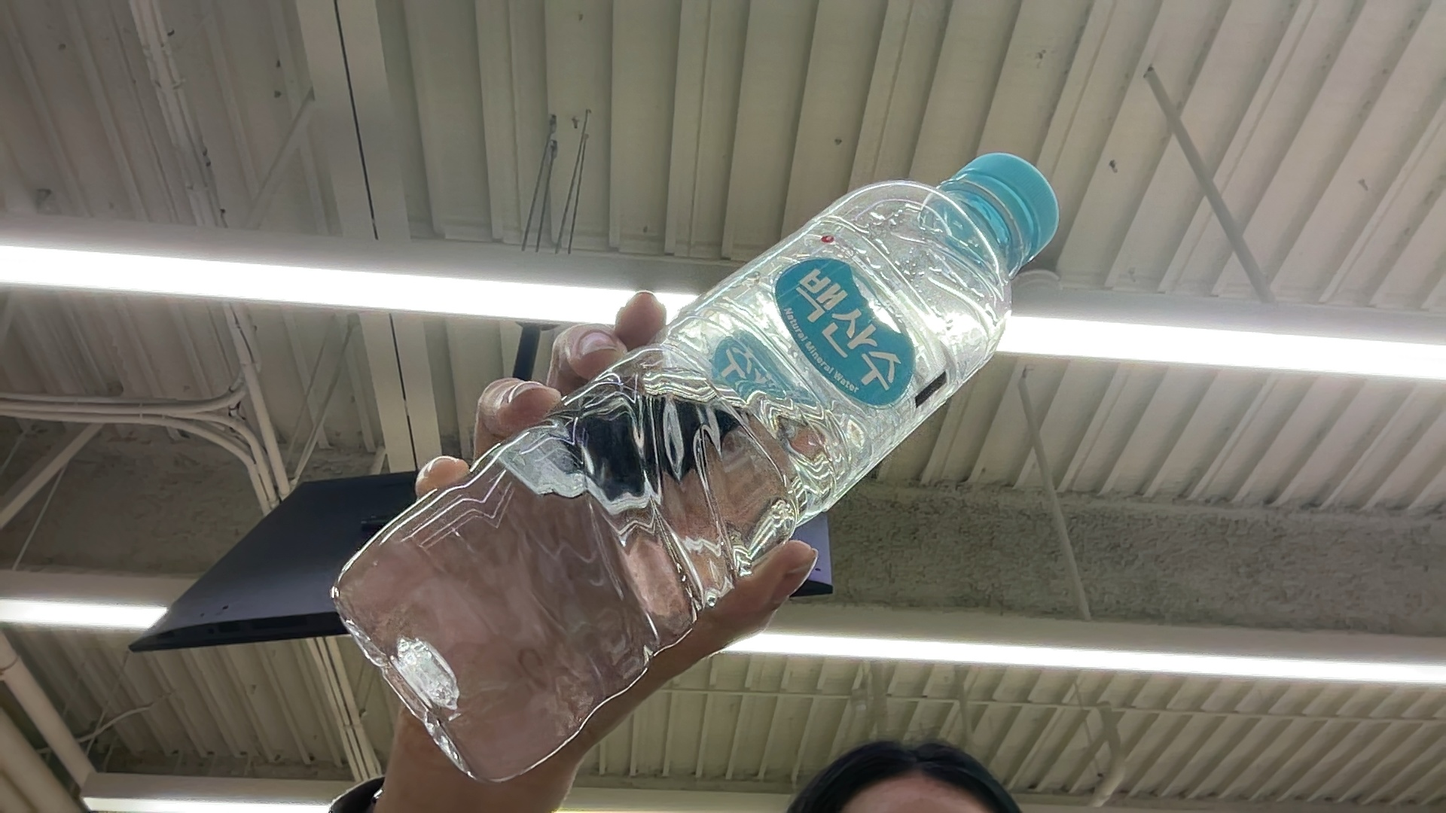Plastic: (305, 131, 1139, 735)
